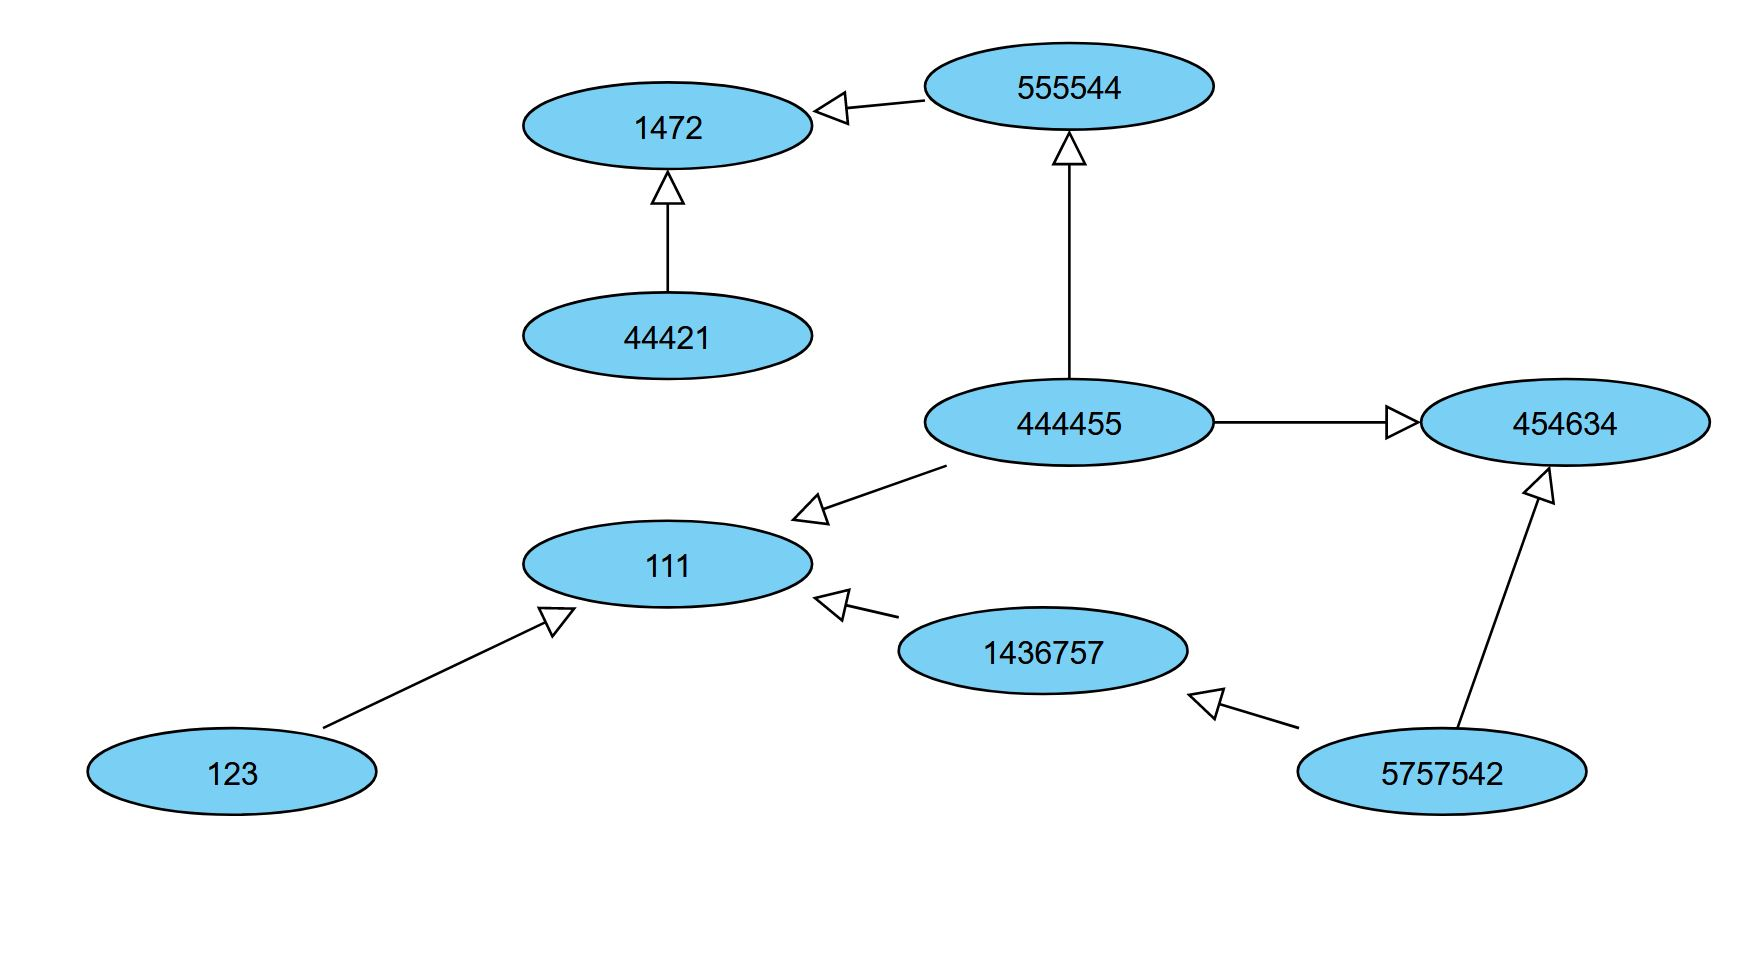generalization: (325, 604, 575, 729), (1456, 465, 1554, 726), (792, 462, 955, 526), (1050, 132, 1088, 375), (1211, 402, 1421, 444), (1189, 688, 1297, 728), (810, 88, 926, 126), (649, 166, 683, 287), (812, 585, 900, 628)
text: (971, 634, 1106, 674), (1492, 404, 1621, 446), (1375, 752, 1510, 789), (1008, 67, 1124, 106), (613, 316, 716, 355), (1018, 409, 1126, 442), (628, 100, 708, 143), (210, 755, 262, 793), (642, 550, 702, 582)
use_case: (926, 375, 1217, 468), (84, 727, 379, 818), (1418, 377, 1709, 468), (1296, 726, 1590, 816), (523, 519, 812, 610), (894, 606, 1190, 695), (922, 41, 1215, 129), (523, 293, 813, 379), (523, 83, 812, 169)
